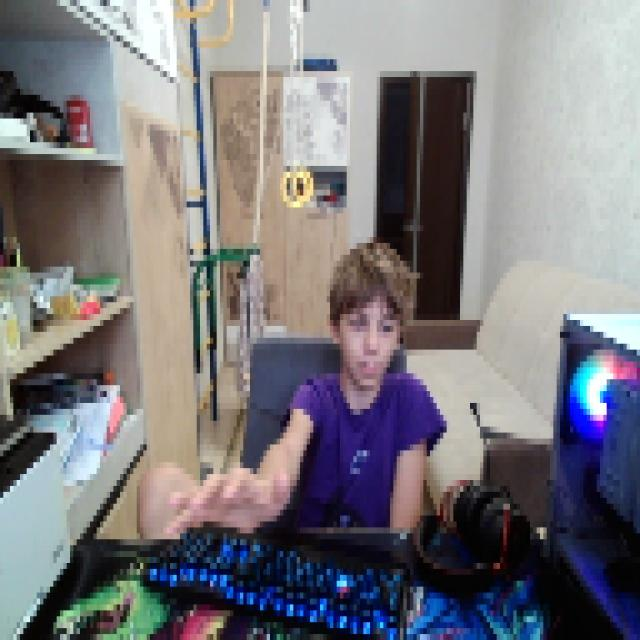hand: (164, 451, 294, 534)
